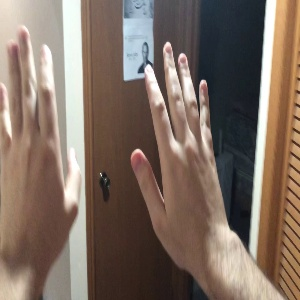hand: (131, 41, 232, 240), (1, 24, 81, 247)
